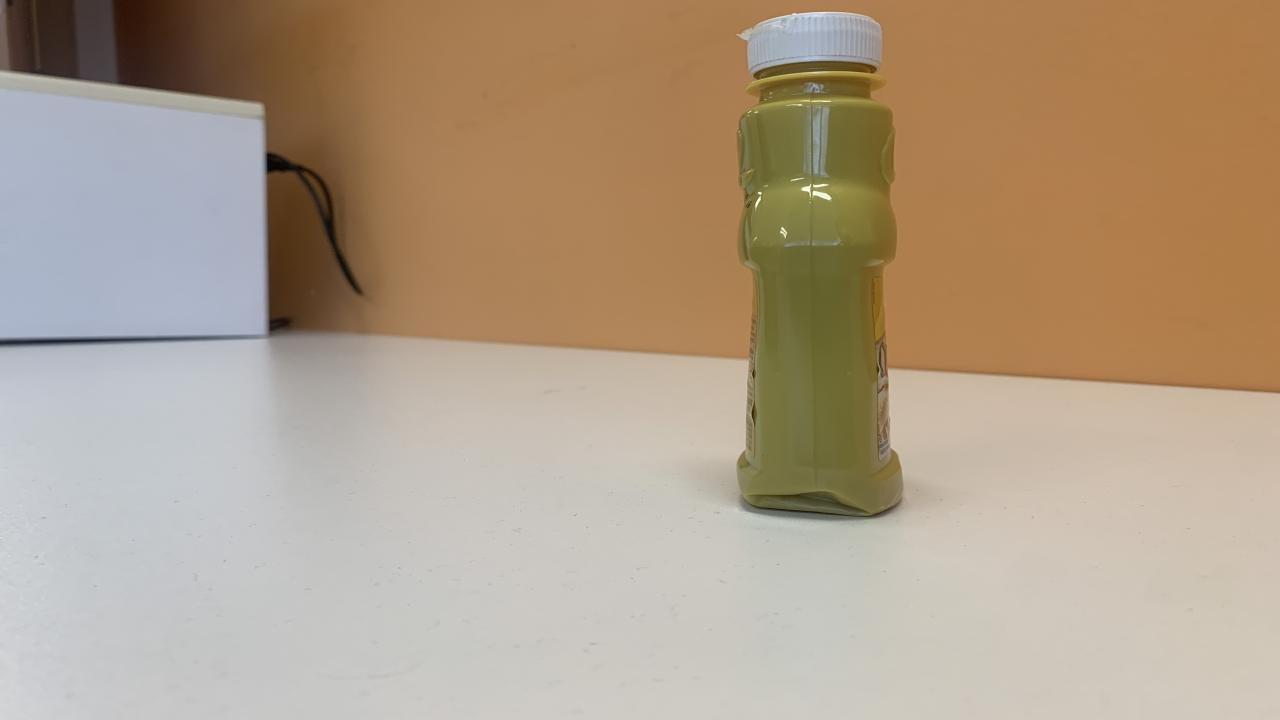Mustard-Pantry_Items: (735, 11, 904, 520)
